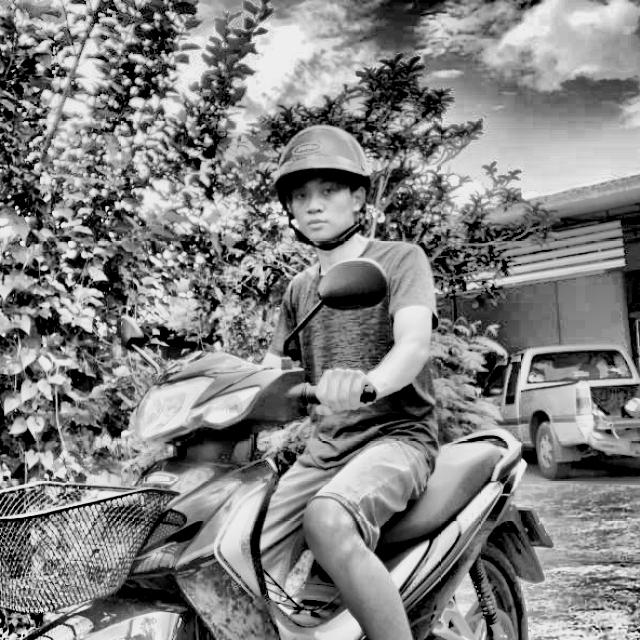Helmet: (268, 123, 376, 252)
